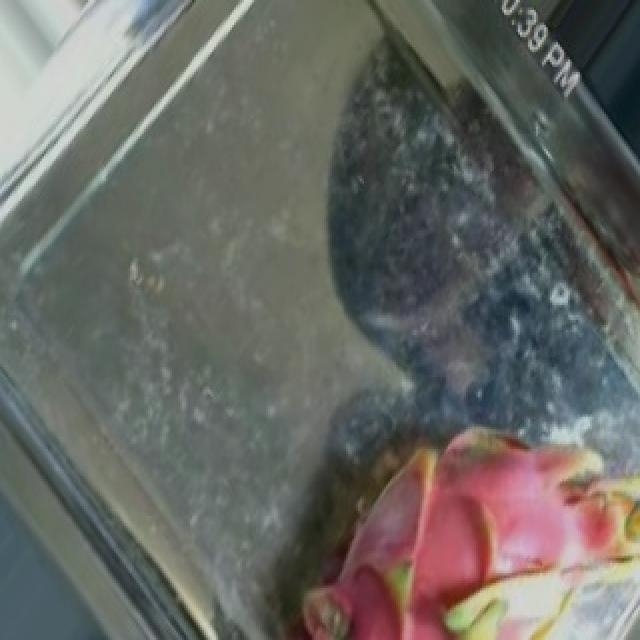fruit: (236, 335, 638, 640)
